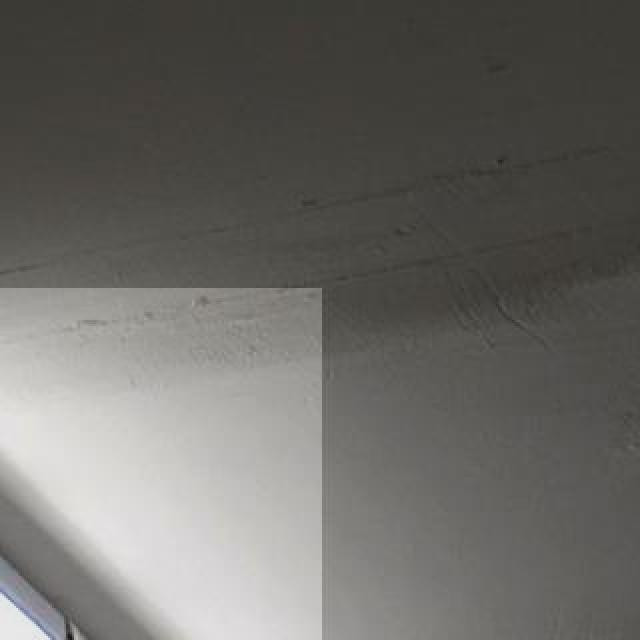fluorescent tube: (0, 366, 300, 640)
